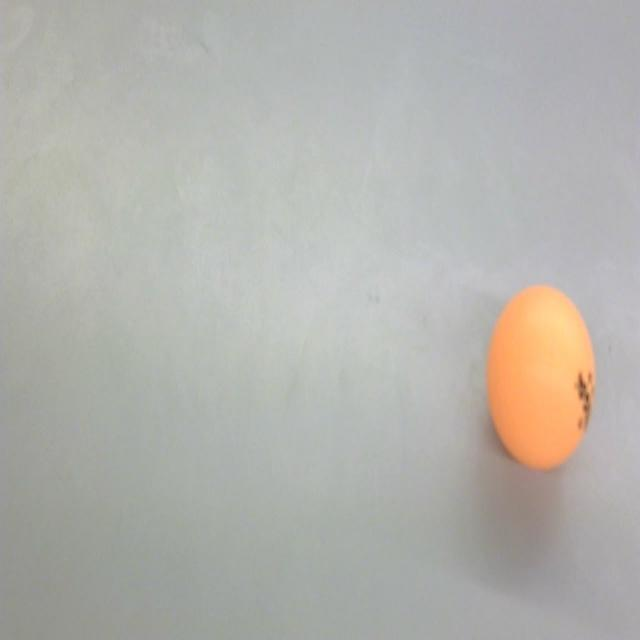ball: (486, 283, 598, 472)
